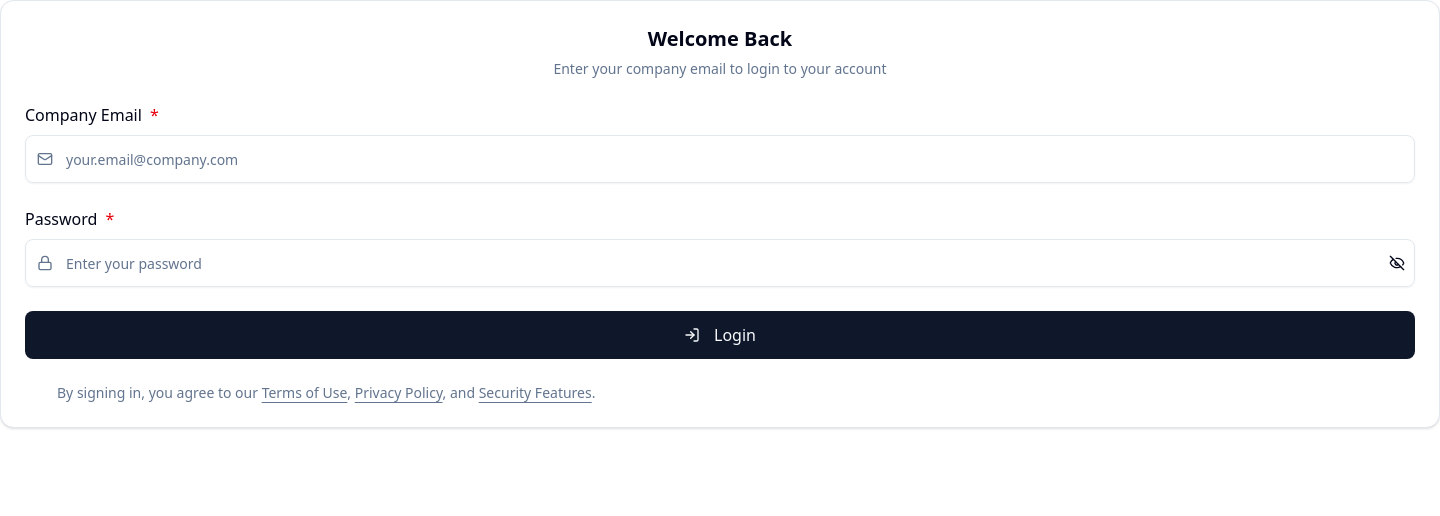
Test case: LoginPage › shows an error message when login fails
The width and height of the screenshot is (1440, 516).
Type "test@metrobank.com.ph" into the field labelled "Company Email *" at (720, 159), box [25,135,1415,183]
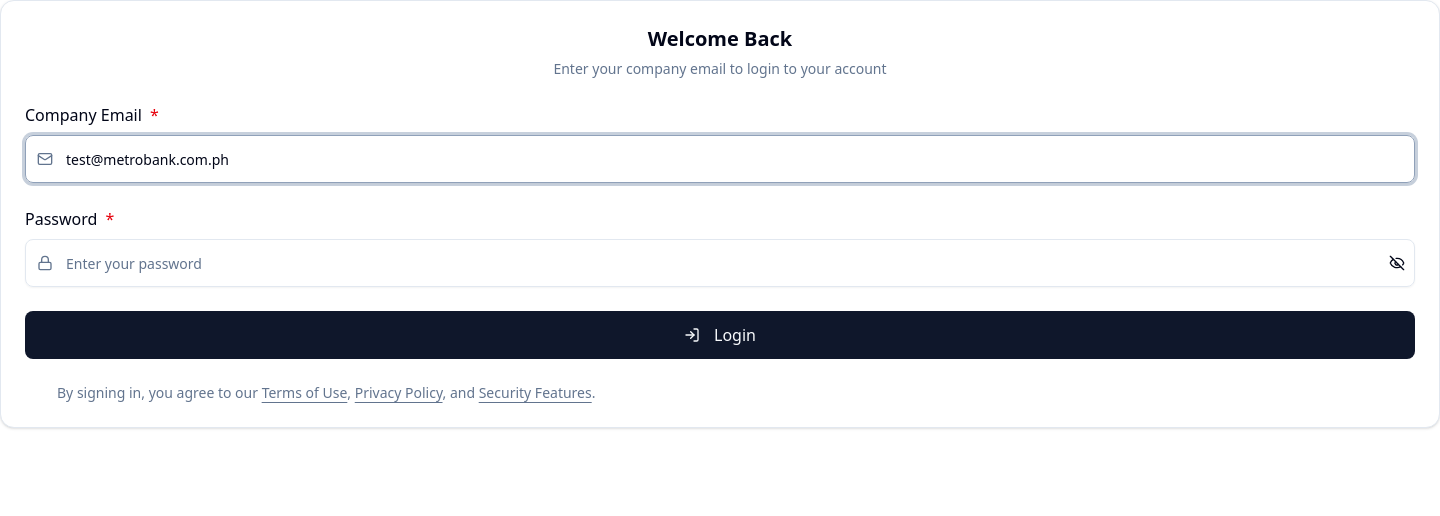
Type "password" into the password field labelled "Password *" at (720, 263), box [25,239,1415,287]
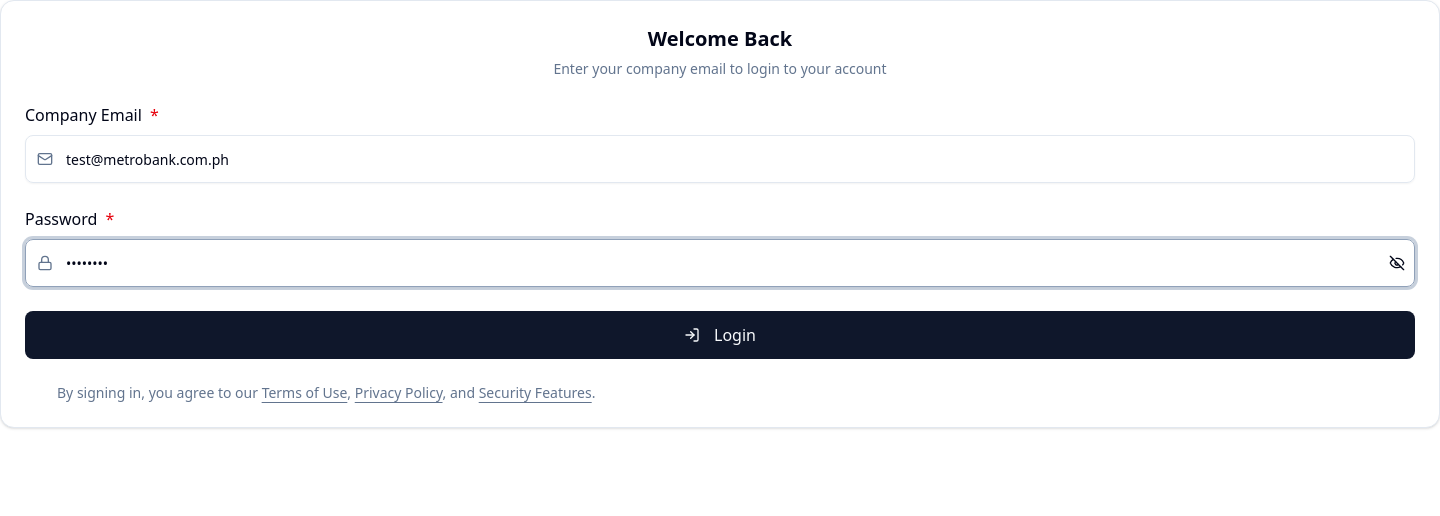
Click the button "Login" at (720, 335), box [25,311,1415,359]
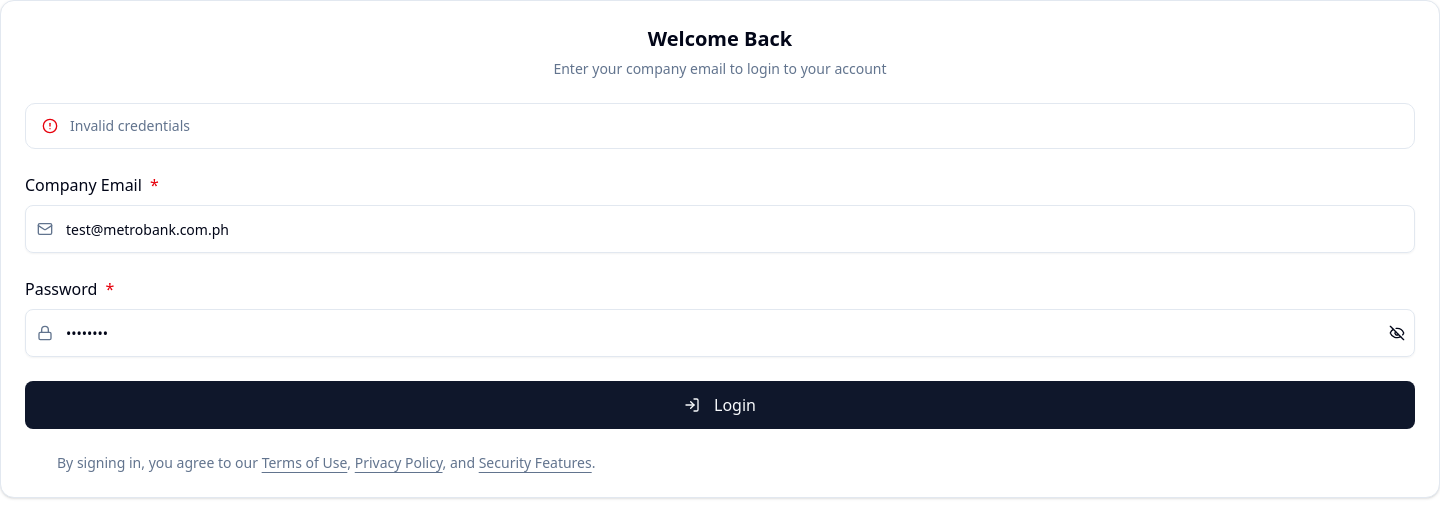
Result: the text "Invalid credentials" is shown at [70,116,190,135]
